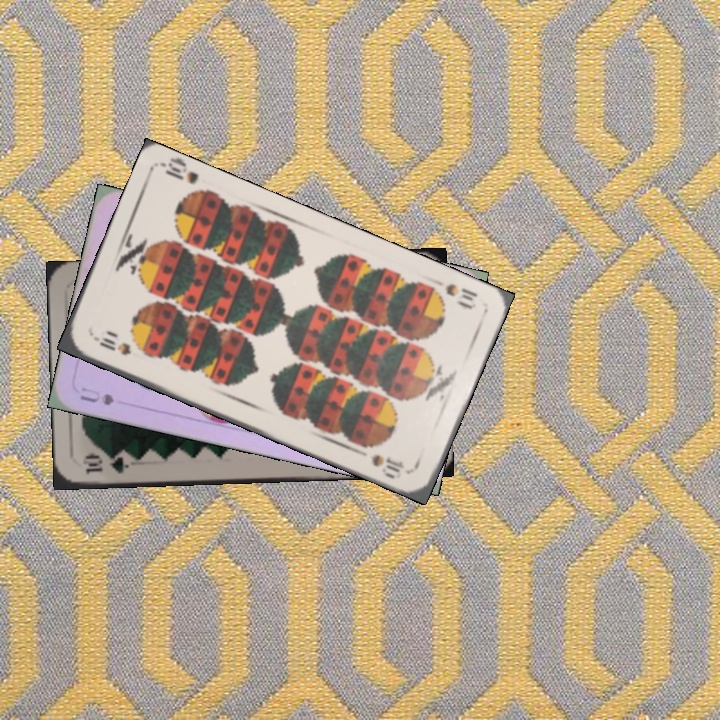G10: (79, 452, 131, 477)
S10: (427, 274, 481, 312), (89, 332, 134, 359)
SU: (76, 383, 117, 408)
